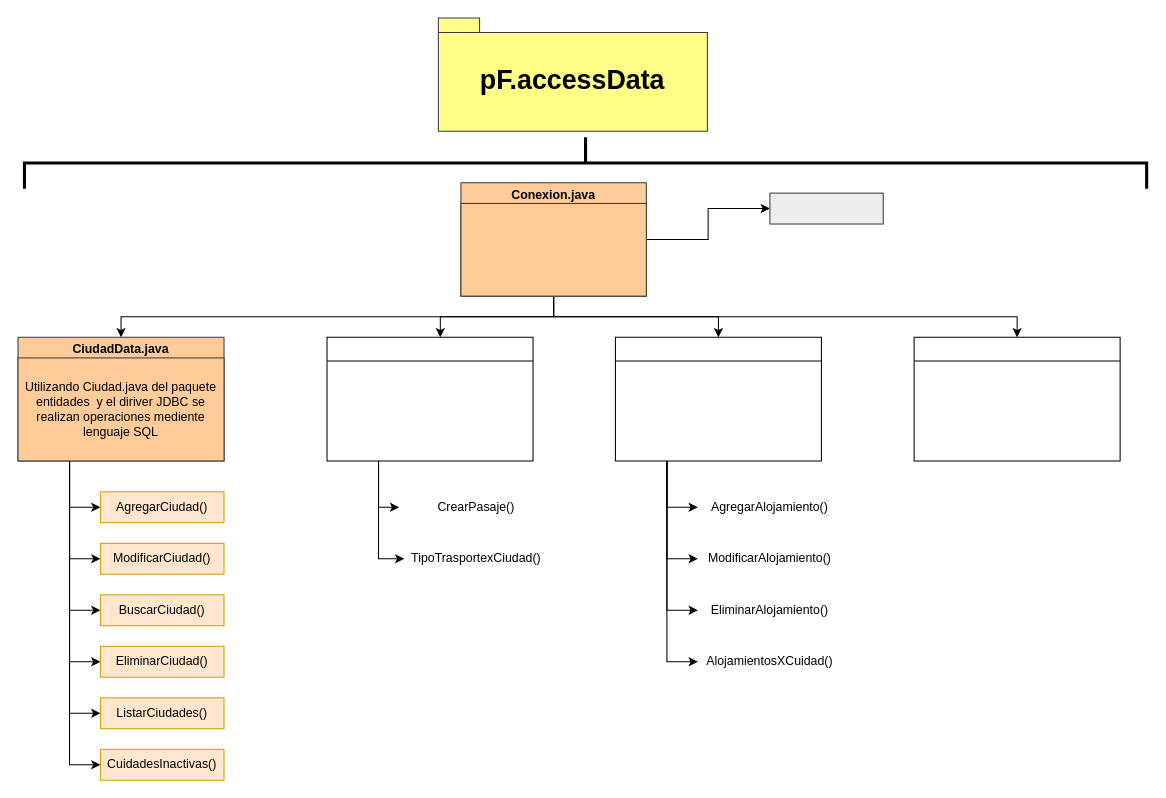
The diagram is 1166 pixels wide and 798 high, and some of its shapes have lost their labels. The shapes that lost their labels are listed below. From the top down, each one's centre as x and y in pixels, then its label:
point (826, 208): getConnection()
point (553, 249): Carga el driver JDBC (mariadb v3.0.11)
point (429, 398): PasajeData.java
point (717, 398): AlojamientoData.java
point (1016, 398): Vertical Container
